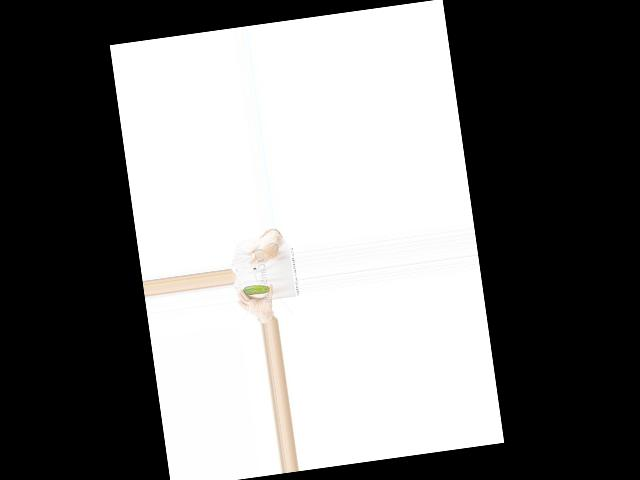cucumber: (242, 283, 271, 297)
